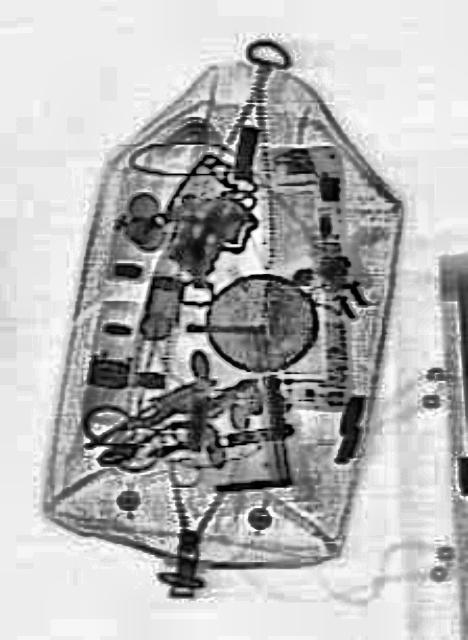Scissors: (75, 339, 227, 491)
